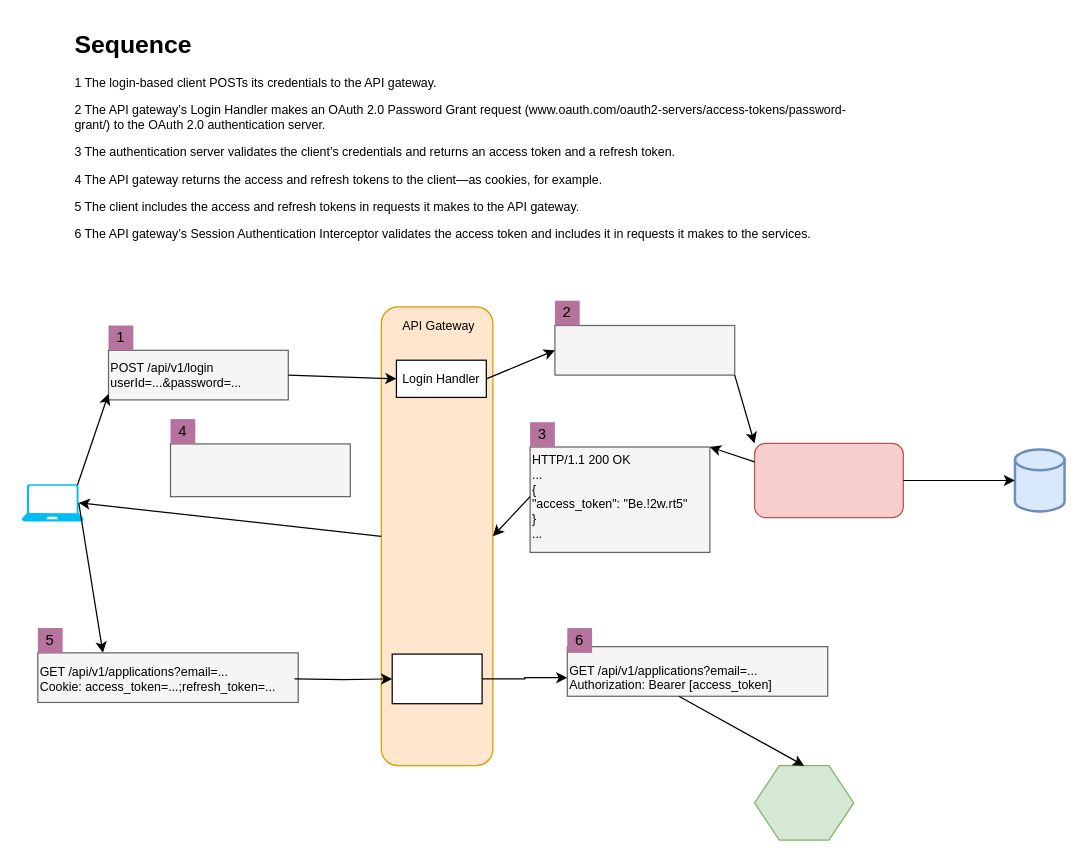
Image size: 1086x862. Some labels were removed from this diagram. The box of each missing label's shape, as (x1, y1, x2, y2) in pixels:
Application Service: (753, 764, 854, 840)
HTTP/1.1 200 OK Set-Cookie: access_token=... Set-Cookie: refresh_token=...: (169, 443, 350, 497)
POST /oauth/token userId=...&password=...: (554, 324, 735, 375)
Session Authentication Interceptor: (391, 653, 482, 704)
Spring Oauth2 Authentication Server: (753, 442, 903, 518)
